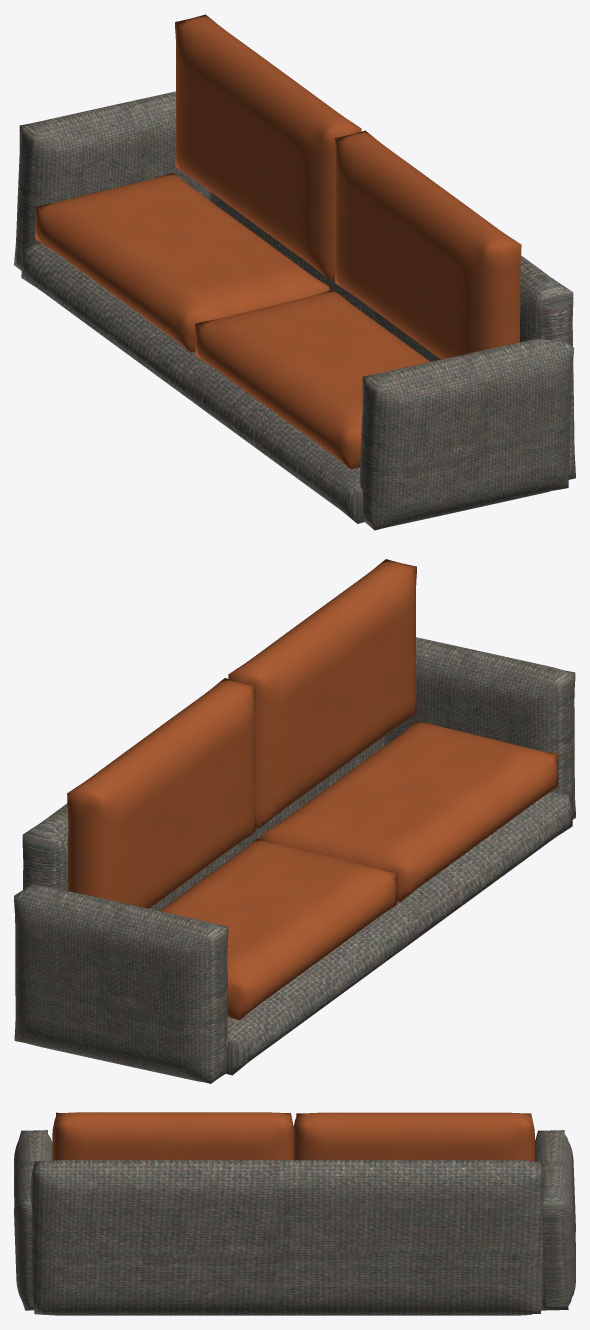
File: sofa2.fbx
3 renders of one model, top to bottom at view 1: azimuth 30°, elevation 25°; view 2: azimuth 150°, elevation 25°; view 3: azimuth 270°, elevation 25°, orthographic. The views are drawn at different scales.
Visible parts, largest first — view 1: Cube.008, Cube.004, Cube.005, Cube.007, Cube.006, Cube.003, Cube.011, Cube.010; view 2: Cube.011, Cube.005, Cube.004, Cube.006, Cube.007, Cube.003, Cube.008, Cube.010; view 3: Cube.010, Cube.004, Cube.005, Cube.011, Cube.008.
Boxes of the visible parts, x1,y1,x2,y2 form: Cube.008: (359,339,574,530); Cube.004: (334,130,521,359); Cube.005: (175,14,361,280); Cube.007: (35,172,329,352); Cube.006: (195,289,429,469); Cube.003: (21,243,364,523); Cube.011: (14,91,209,270); Cube.010: (210,191,575,479); Cube.011: (14,885,228,1083); Cube.005: (67,678,255,908); Cube.004: (228,559,416,828); Cube.006: (260,721,558,901); Cube.007: (160,838,397,1020); Cube.003: (225,792,572,1075); Cube.008: (384,637,575,819); Cube.010: (22,736,384,910); Cube.010: (30,1160,544,1315); Cube.004: (52,1112,293,1160); Cube.005: (293,1112,534,1161); Cube.011: (535,1130,575,1310); Cube.008: (14,1130,52,1310).
Size of the model in its own units: 335 by 344 by 937.
Materials: 2 (2 with a texture image).
